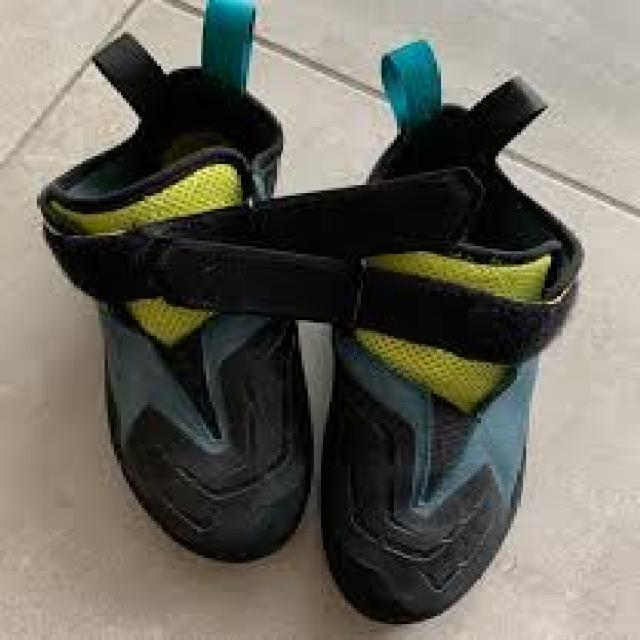climbing-shoes: (319, 41, 593, 625), (34, 3, 315, 564)
